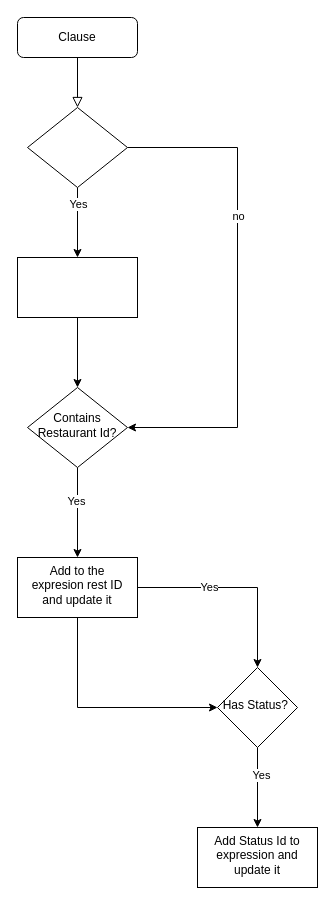
The diagram is 335 pixels wide and 905 high, and some of its shapes have lost their labels. The shapes that lost their labels are listed below. From the top down, each one's centre as x and y in pixels, then its label:
At pixel 77 147: "Contains email?".
At pixel 77 287: "Add email to the expression and update it".
